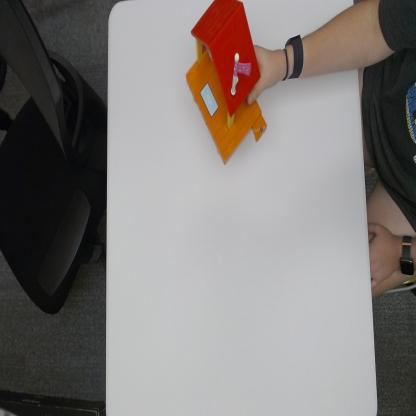Arm: (304, 4, 391, 78)
Hand: (248, 41, 293, 98)
House: (186, 0, 266, 164)
